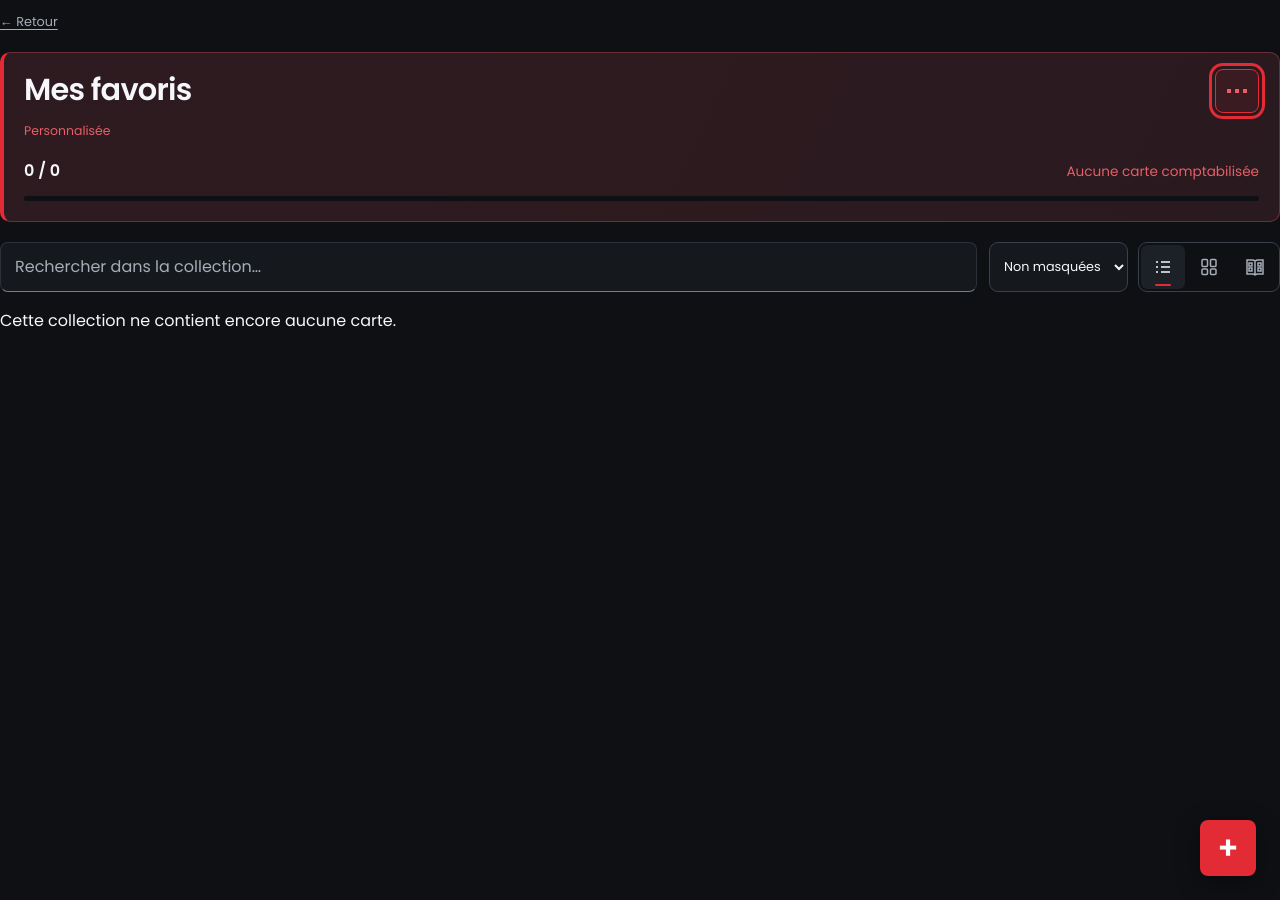
rename indisponible : fermeture, cache retiré, état sûr et focus
The image size is (1280, 900).
Step 1. Click the button named "Actions de la collection" → point(1237, 91), box [1215,69,1259,113]
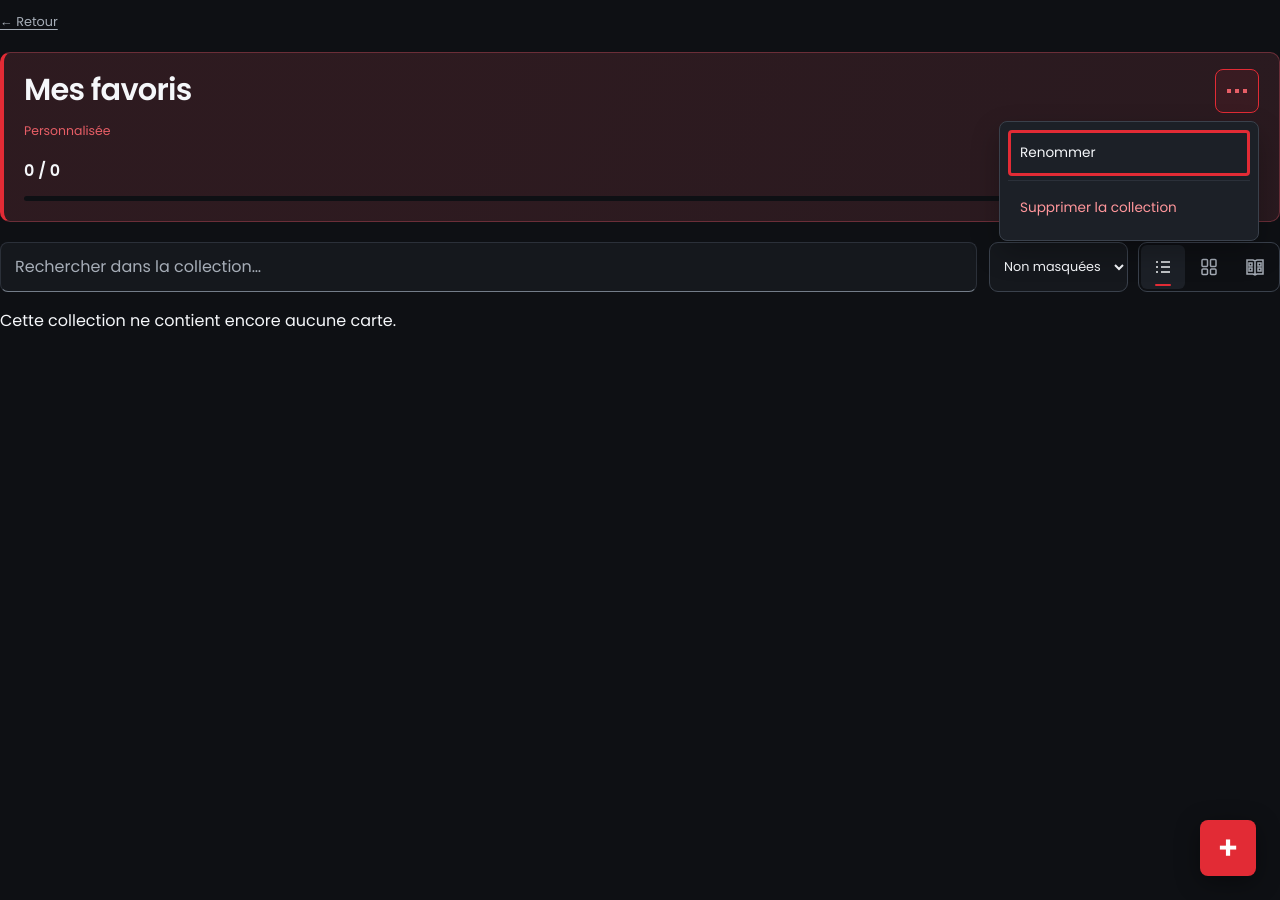
Step 2. Click the button "Renommer" → point(1129, 153), box [1008,130,1250,176]
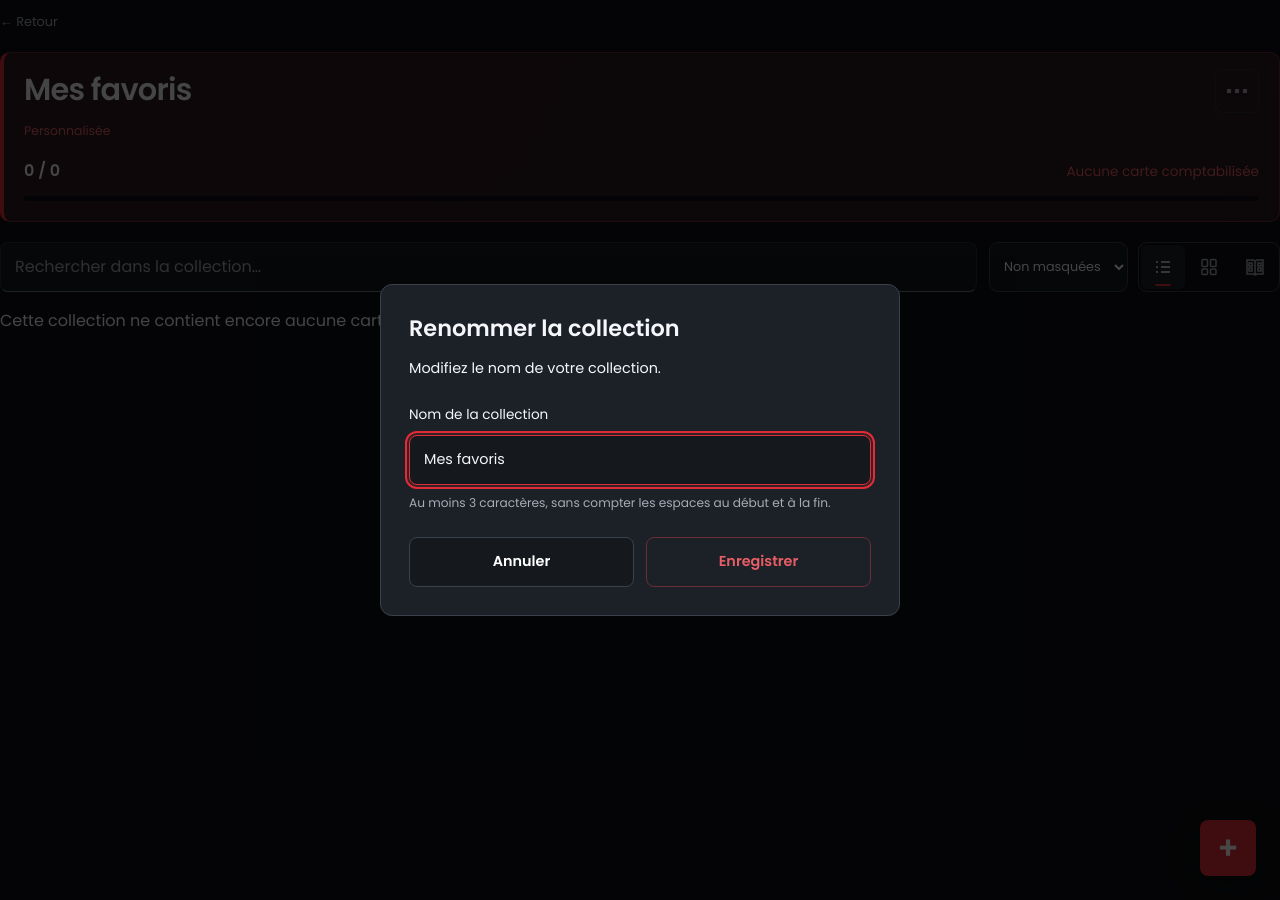
Step 3. Submit the form, box [409,404,871,587]
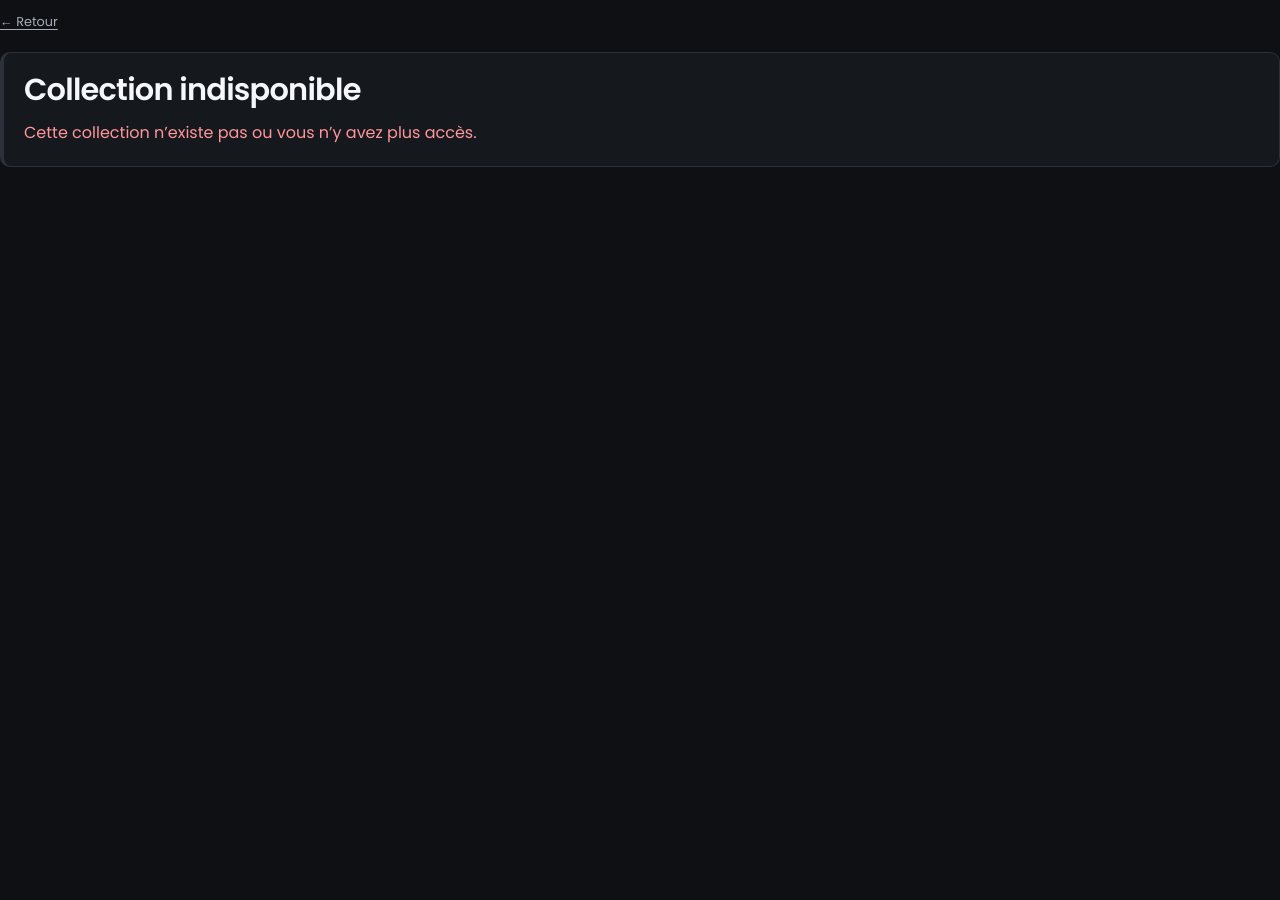
expect the dialog is gone: met
expect the message reads "Cette collection n’existe pas ou vous n’y avez plus accès.": met, box [24,121,477,144]
